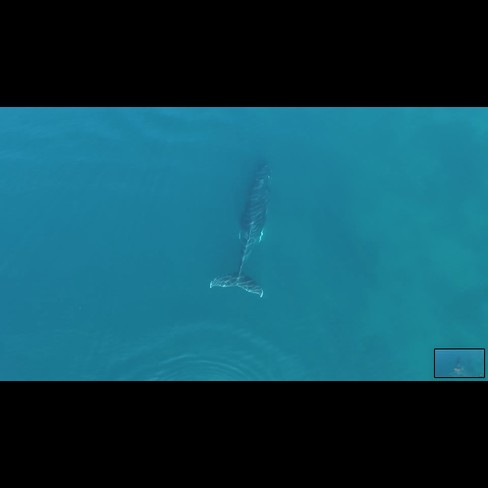hump: (205, 152, 279, 301)
